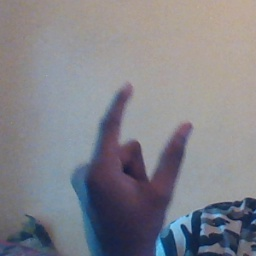U: (75, 76, 203, 253)
